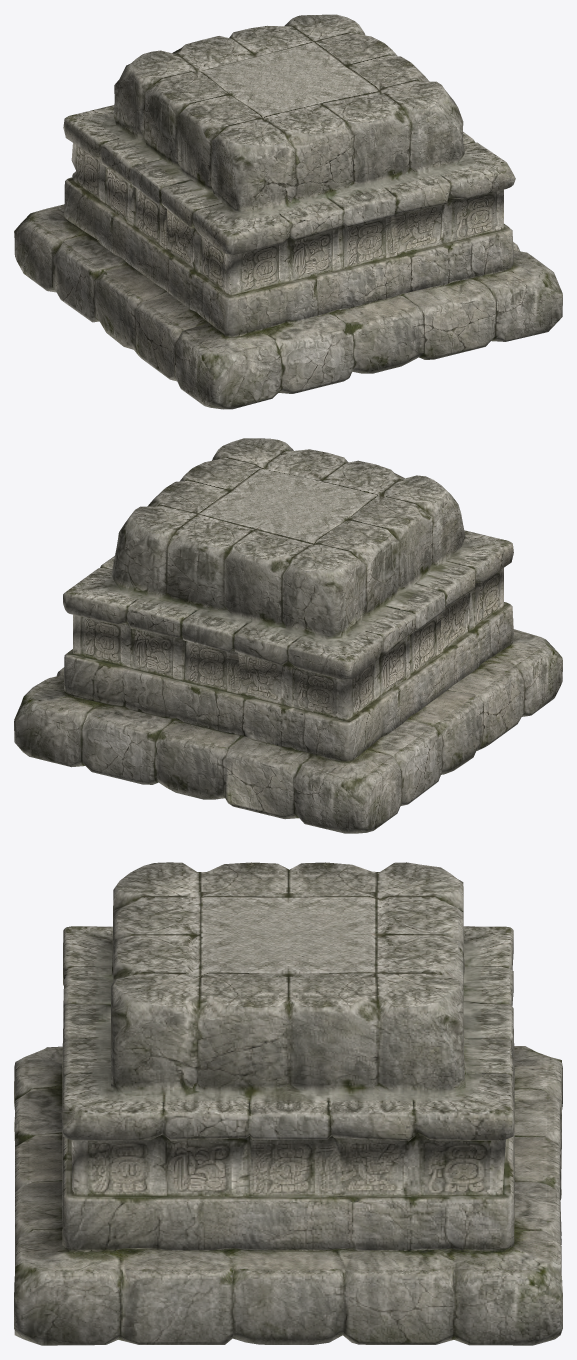
The model's file is ruin_pedestal.glb.
3 renders of one model, top to bottom at view 1: azimuth 30°, elevation 25°; view 2: azimuth 150°, elevation 25°; view 3: azimuth 270°, elevation 25°, orthographic. The views are drawn at different scales.
Bounding box in the file's own units: 0.9575 × 0.5674 × 0.9536.
Materials: 1 (1 with a texture image).
